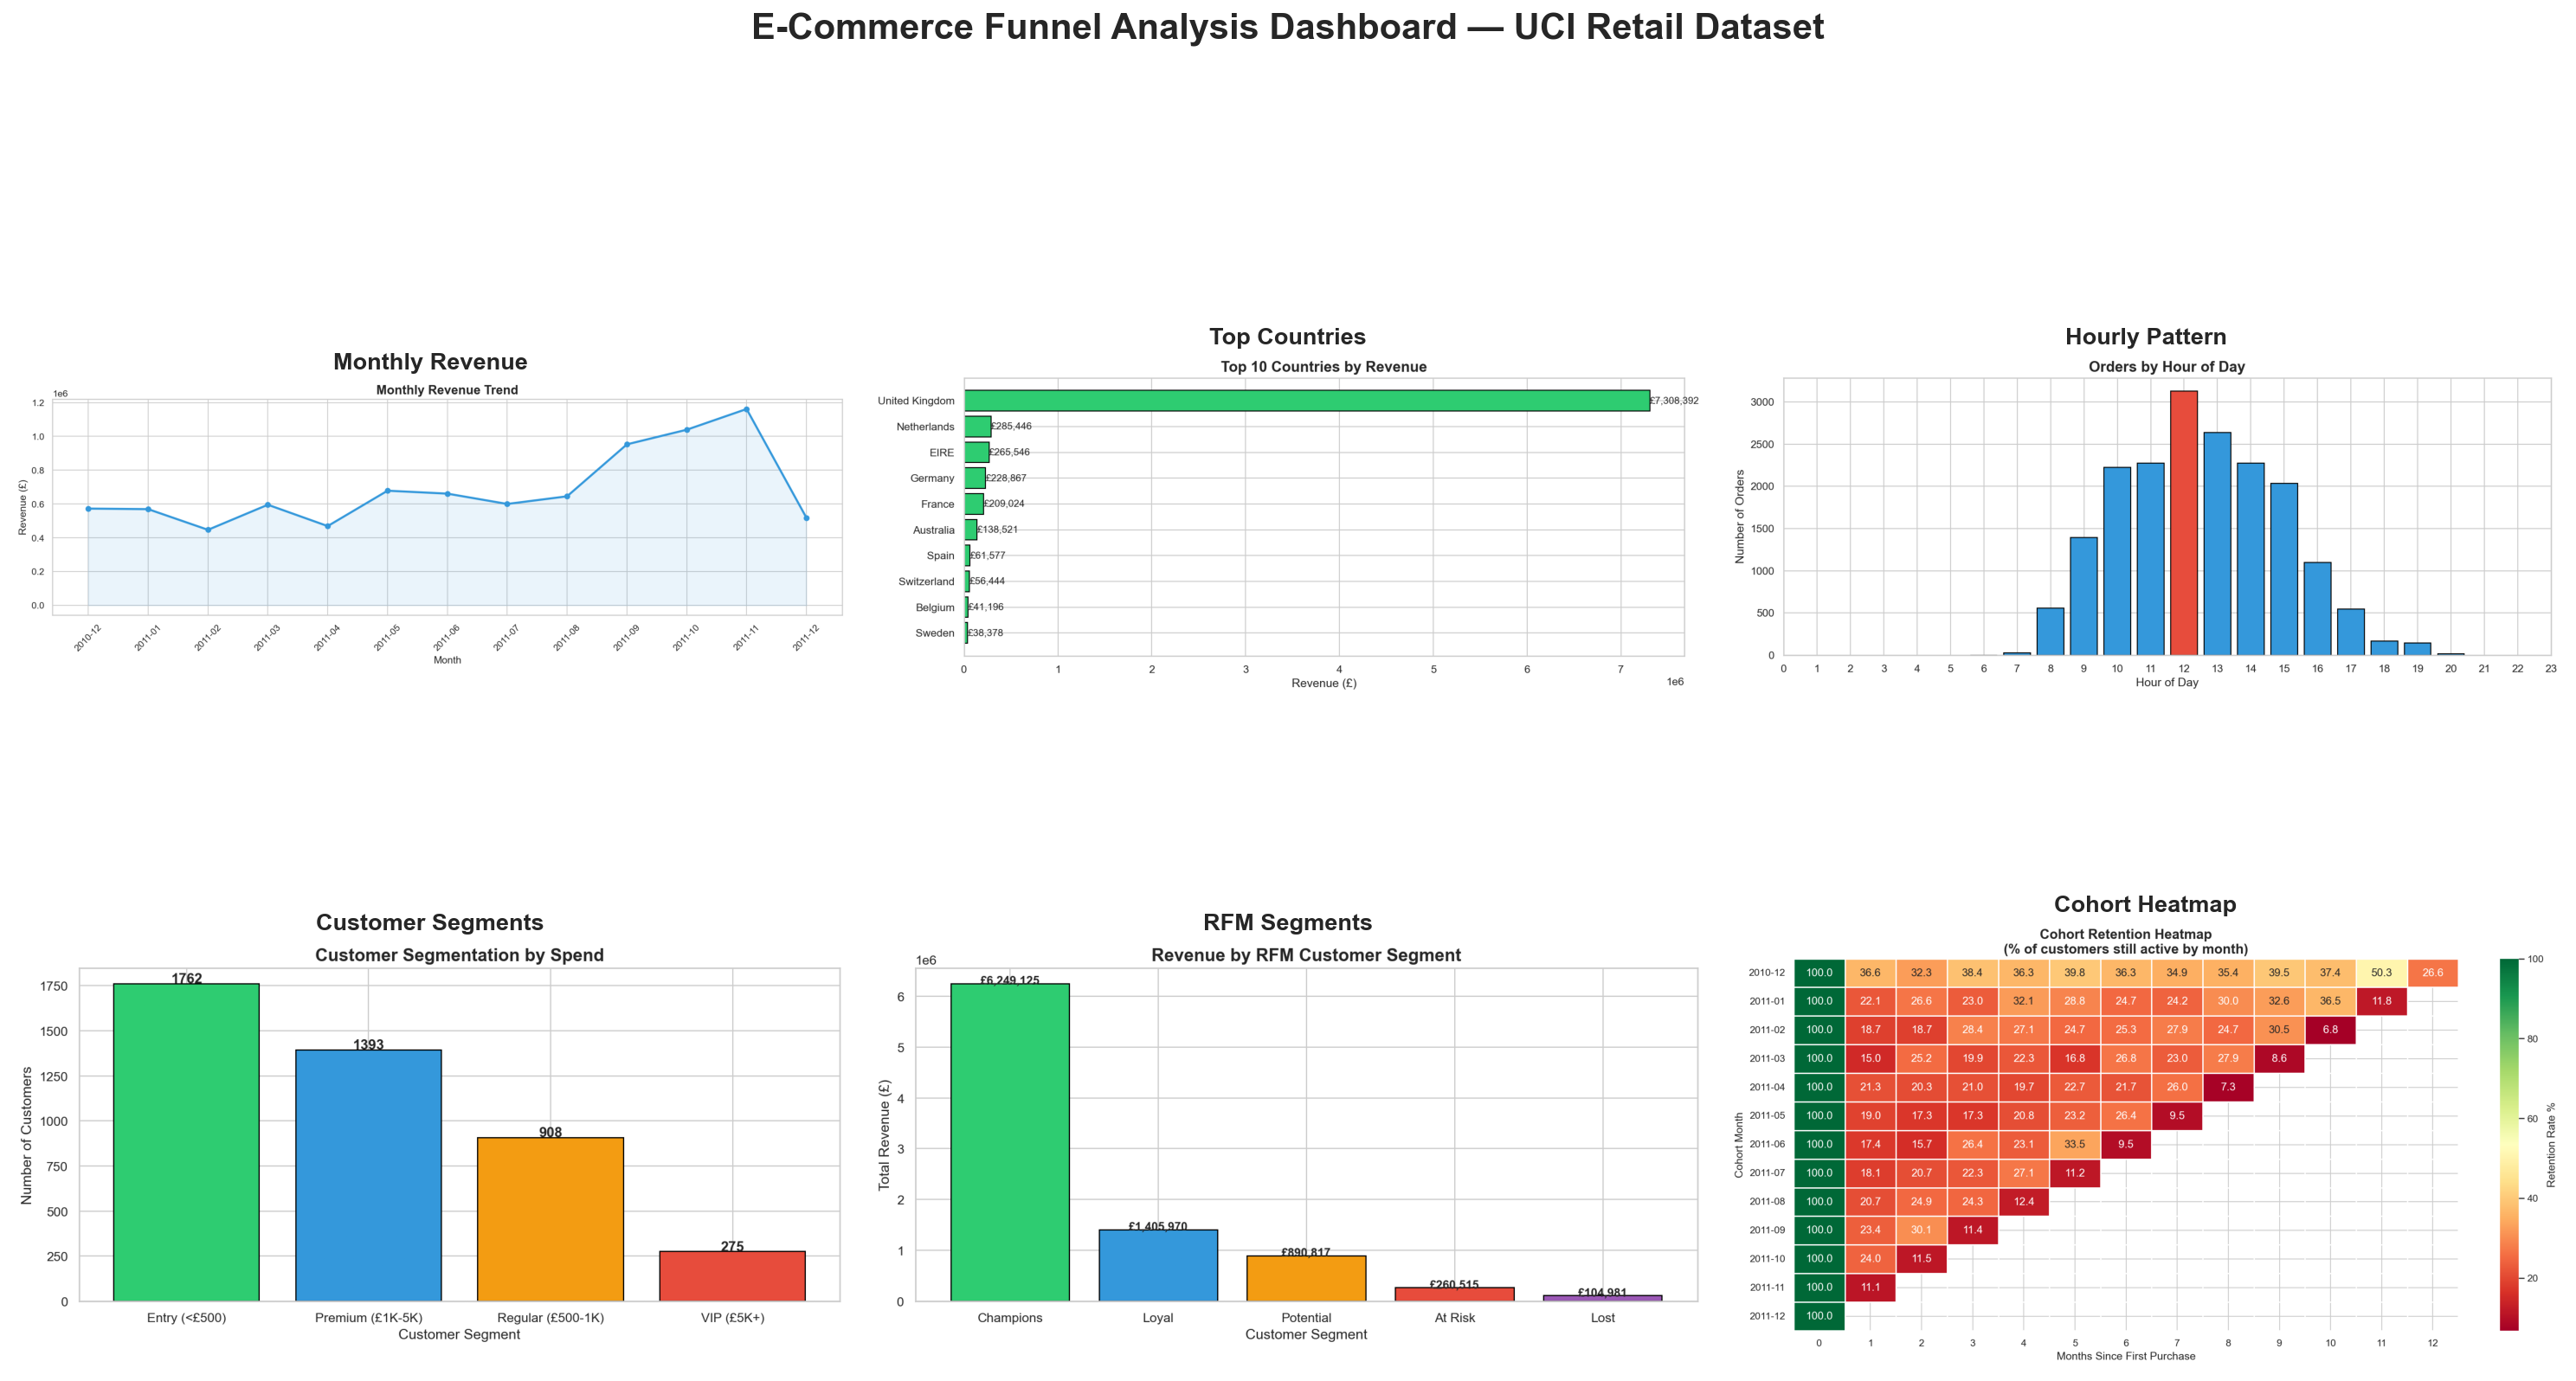

This screenshot's page, from the dashboard's own definition file:
{"tool":"powerbi","page":{"name":"Page 1","canvas":[1280,720],"ordinal":0},"visuals":[{"type":"textbox","box":[0,0,1280,48],"z":0},{"type":"cardVisual","fields":{"Data":["ecommerce_powerbi.Total Revenue"]},"box":[16,64,144,128],"z":1000},{"type":"cardVisual","fields":{"Data":["ecommerce_powerbi.Total Orders"]},"box":[16,208,144,112],"z":2000},{"type":"cardVisual","fields":{"Data":["ecommerce_powerbi.Avg Order Value"]},"box":[16,464,144,112],"z":3000},{"type":"cardVisual","fields":{"Data":["ecommerce_powerbi.Total Products"]},"box":[16,592,144,112],"z":4000},{"type":"cardVisual","fields":{"Data":["ecommerce_powerbi.Total Customers"]},"box":[16,336,144,112],"z":5000},{"type":"lineChart","title":"Monthly Revenue Trend","fields":{"Y":["Sum(monthly_summary.Revenue)"],"Category":["monthly_summary.Month.Variation.Date Hierarchy.Year","monthly_summary.Month.Variation.Date Hierarchy.Quarter","monthly_summary.Month.Variation.Date Hierarchy.Month","monthly_summary.Month.Variation.Date Hierarchy.Day"]},"box":[192,64,384,224],"z":6000},{"type":"clusteredBarChart","title":"Top 10 Countries by Revenue","fields":{"Category":["ecommerce_powerbi.Country"],"Y":["ecommerce_powerbi.Total Revenue"]},"box":[592,304,448,208],"z":7000},{"type":"clusteredColumnChart","title":"Revenue by RFM Segment","fields":{"Category":["rfm_segments.Segment"],"Y":["CountNonNull(rfm_segments.Monetary)"]},"box":[192,304,384,208],"z":8000},{"type":"donutChart","title":"Customer Segment Distribution","fields":{"Category":["rfm_segments.Segment"],"Y":["CountNonNull(rfm_segments.Monetary)"]},"box":[192,528,384,176],"z":9000},{"type":"clusteredColumnChart","title":"Orders by Hour of Day","fields":{"Category":["ecommerce_powerbi.Hour"],"Y":["ecommerce_powerbi.Total Orders"]},"box":[592,64,448,224],"z":10000},{"type":"clusteredBarChart","title":"Top 10 Products by Revenue","fields":{"Category":["ecommerce_powerbi.Description"],"Y":["ecommerce_powerbi.Total Revenue"]},"box":[592,528,448,176],"z":11000},{"type":"slicer","fields":{"Values":["ecommerce_powerbi.Country"]},"box":[1072,64,192,192],"z":12000},{"type":"slicer","fields":{"Values":["ecommerce_powerbi.DayOfWeek"]},"box":[1072,272,192,208],"z":13000},{"type":"slicer","fields":{"Values":["monthly_summary.Month"]},"box":[1072,496,192,208],"z":14000}]}

Visuals, with their boxes on the page's 1280x720 design canvas (x1, y1, x2, y2). These are canvas units, not pixel positions in the 2576x1381 screenshot, which may show the page scaled, cropped or inside an application window:
textbox: bbox(0, 0, 1280, 48)
cardVisual - ecommerce_powerbi.Total Revenue: bbox(16, 64, 160, 192)
cardVisual - ecommerce_powerbi.Total Orders: bbox(16, 208, 160, 320)
cardVisual - ecommerce_powerbi.Avg Order Value: bbox(16, 464, 160, 576)
cardVisual - ecommerce_powerbi.Total Products: bbox(16, 592, 160, 704)
cardVisual - ecommerce_powerbi.Total Customers: bbox(16, 336, 160, 448)
"Monthly Revenue Trend" lineChart: bbox(192, 64, 576, 288)
"Top 10 Countries by Revenue" clusteredBarChart: bbox(592, 304, 1040, 512)
"Revenue by RFM Segment" clusteredColumnChart: bbox(192, 304, 576, 512)
"Customer Segment Distribution" donutChart: bbox(192, 528, 576, 704)
"Orders by Hour of Day" clusteredColumnChart: bbox(592, 64, 1040, 288)
"Top 10 Products by Revenue" clusteredBarChart: bbox(592, 528, 1040, 704)
slicer - ecommerce_powerbi.Country: bbox(1072, 64, 1264, 256)
slicer - ecommerce_powerbi.DayOfWeek: bbox(1072, 272, 1264, 480)
slicer - monthly_summary.Month: bbox(1072, 496, 1264, 704)
